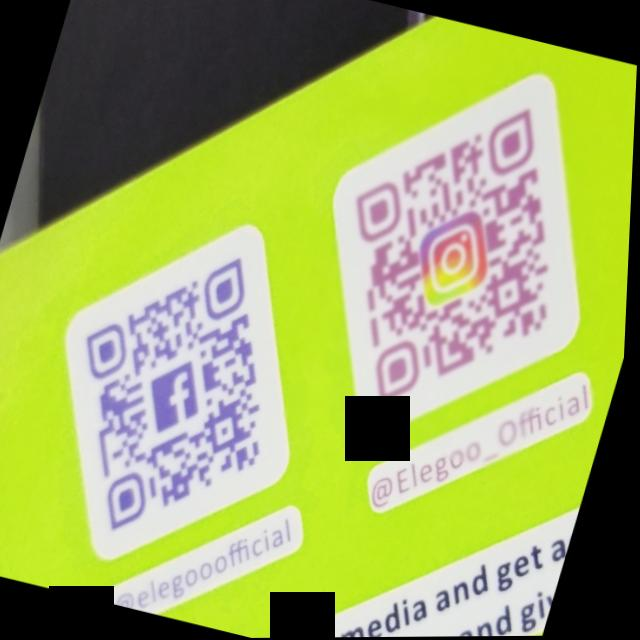QR_CODE: (284, 57, 623, 477), (24, 215, 326, 574)
